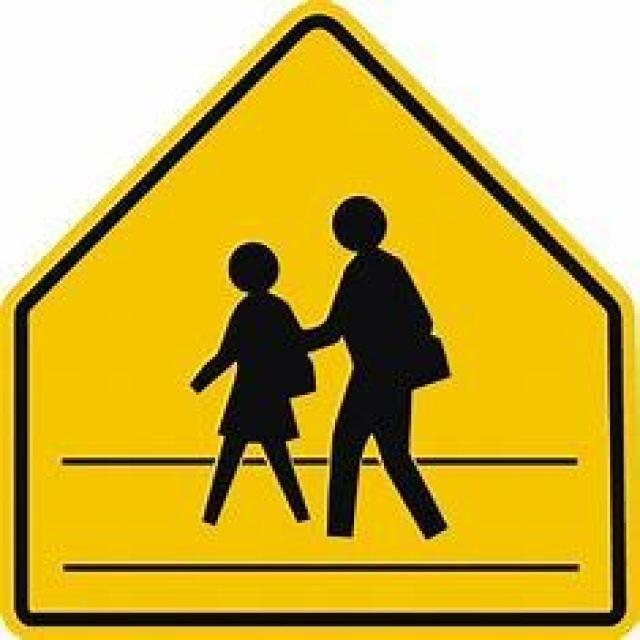school ahead: (18, 40, 615, 528)
